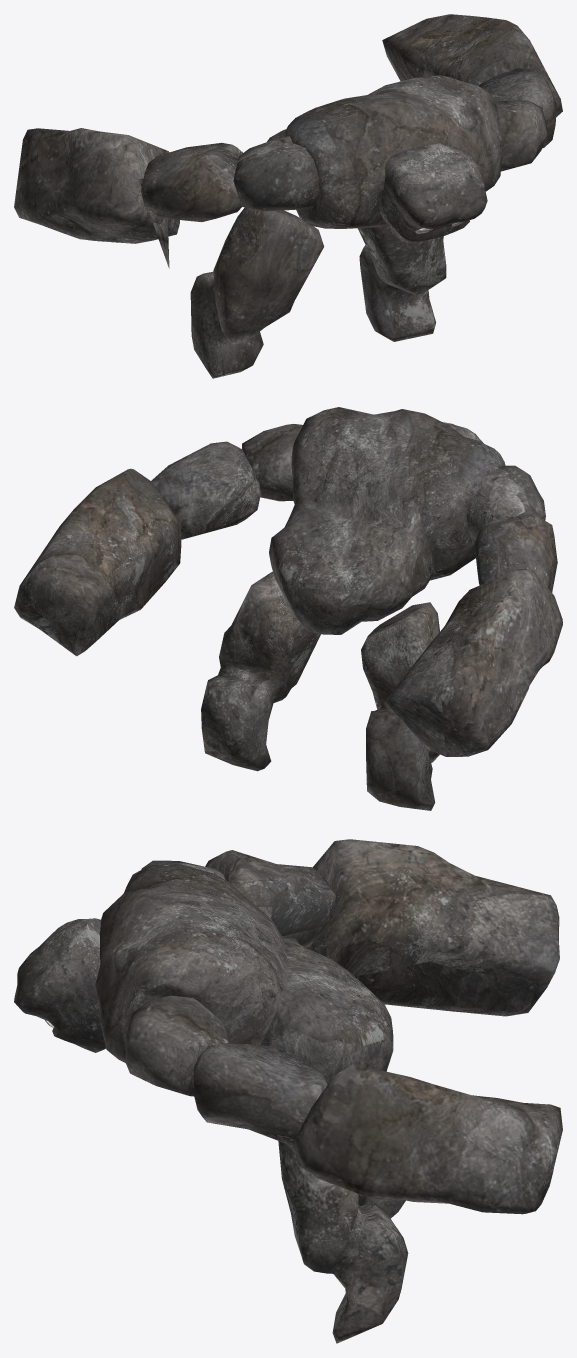
File: jump_000006.obj
3 renders of one model, top to bottom at view 1: azimuth 30°, elevation 25°; view 2: azimuth 150°, elevation 25°; view 3: azimuth 270°, elevation 25°, orthographic. The views are drawn at different scales.
Visible parts, largest first — view 1: hands&leg.001_ice.003, torso.001_ice.005, head.001_ice.004; view 2: hands&leg.001_ice.003, torso.001_ice.005; view 3: hands&leg.001_ice.003, torso.001_ice.005, head.001_ice.004.
Part boxes in pixels (bbox=[...]): hands&leg.001_ice.003: bbox=[14, 14, 562, 378]; torso.001_ice.005: bbox=[267, 75, 502, 228]; head.001_ice.004: bbox=[379, 143, 487, 242]; hands&leg.001_ice.003: bbox=[14, 424, 562, 810]; torso.001_ice.005: bbox=[269, 407, 505, 634]; hands&leg.001_ice.003: bbox=[125, 839, 562, 1343]; torso.001_ice.005: bbox=[95, 863, 393, 1084]; head.001_ice.004: bbox=[14, 918, 105, 1052].
Bounding box in the file's own units: 11.9 × 7.56 × 9.73.
Materials: 2 (1 with a texture image).
